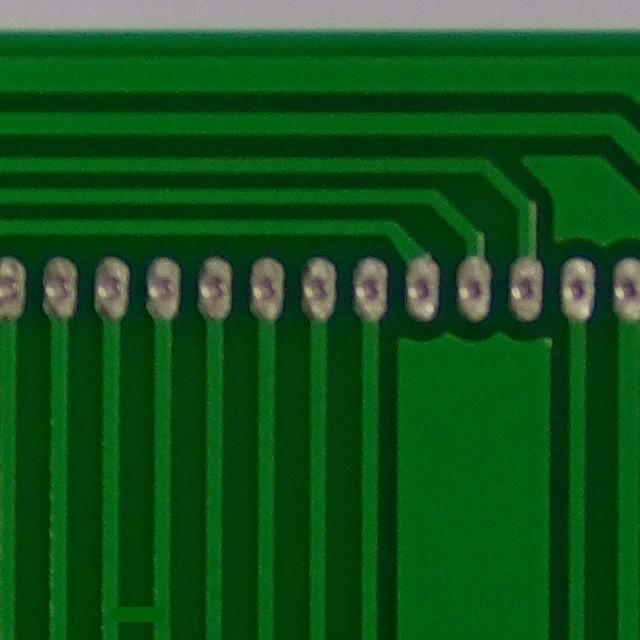short: (93, 584, 175, 640)
